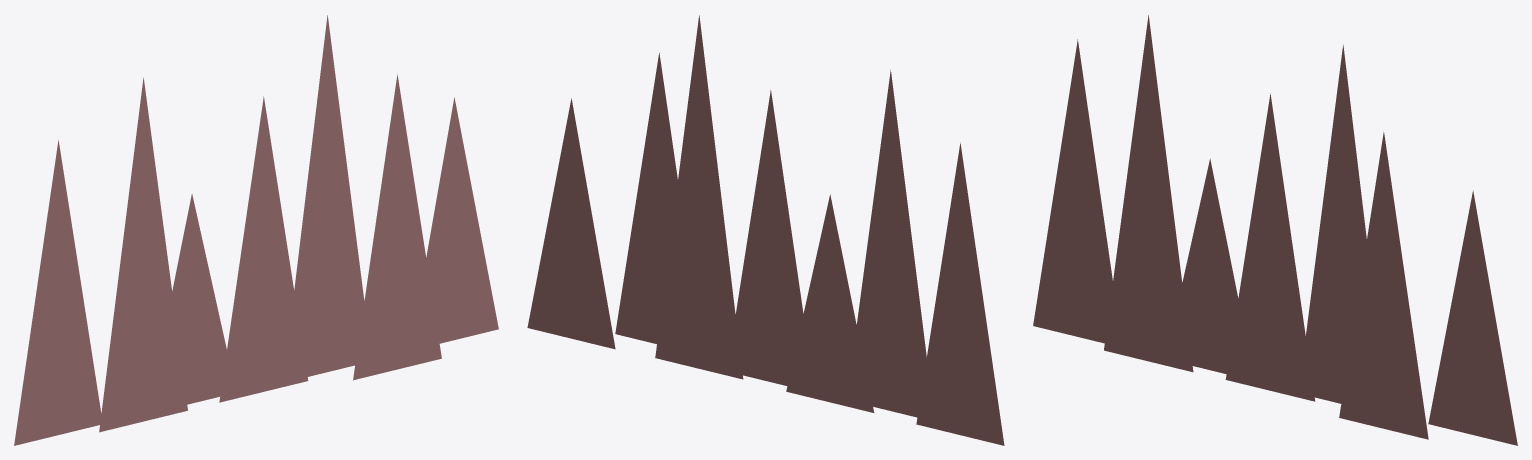
Rendered from SM_TreeLine_00.fbx.
The picture shows the model from 3 angles, left to right: view 1: azimuth 30°, elevation 25°; view 2: azimuth 150°, elevation 25°; view 3: azimuth 330°, elevation 25°; orthographic projection.
Visible parts, largest first — view 1: TreeLine_00; view 2: TreeLine_00; view 3: TreeLine_00.
Part boxes in pixels (box(x1,y1,x2,y2)): TreeLine_00: box(14, 15, 498, 445); TreeLine_00: box(527, 15, 1004, 445); TreeLine_00: box(1033, 15, 1517, 445).
Bounding box in the file's own units: 2449 × 1735 × 154.
